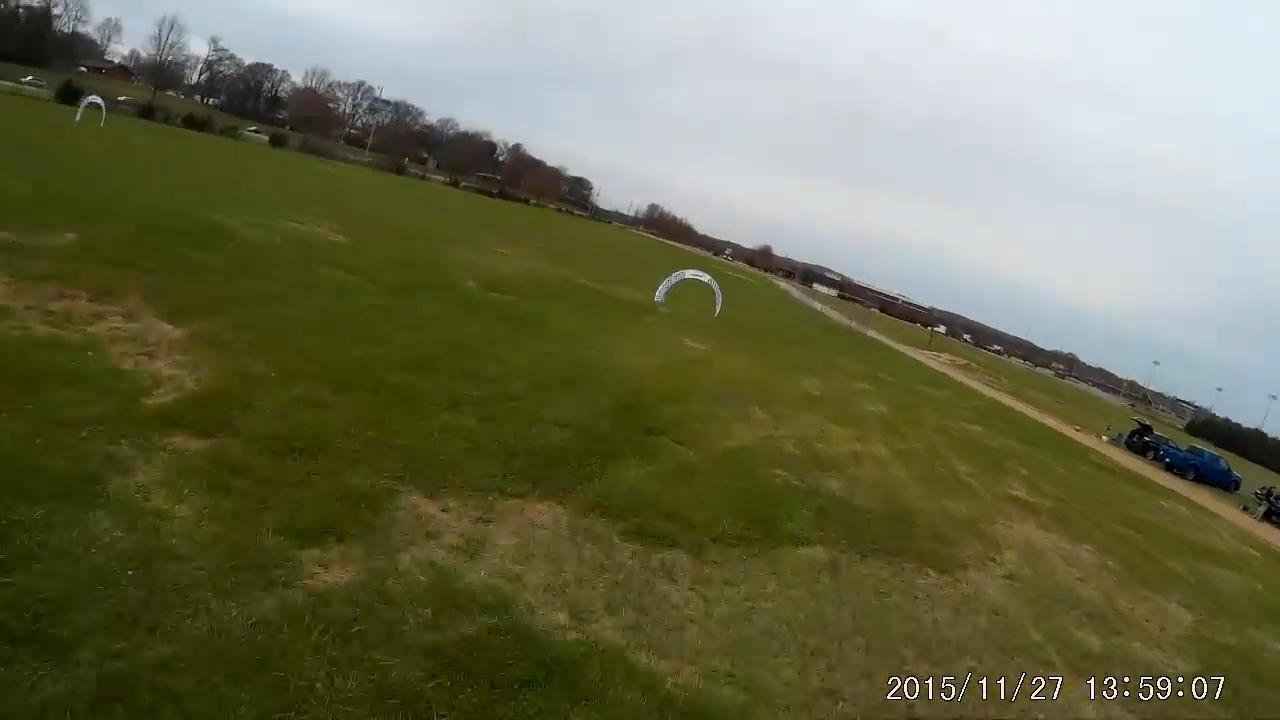gate: (651, 267, 724, 322)
